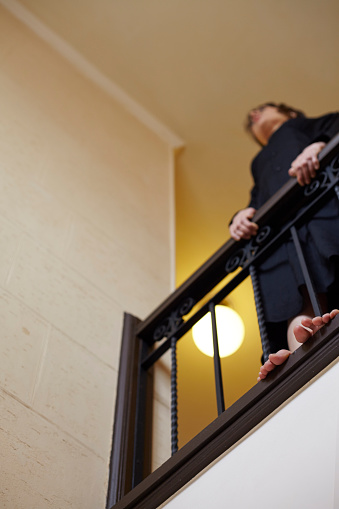em pe: (215, 84, 339, 370)
